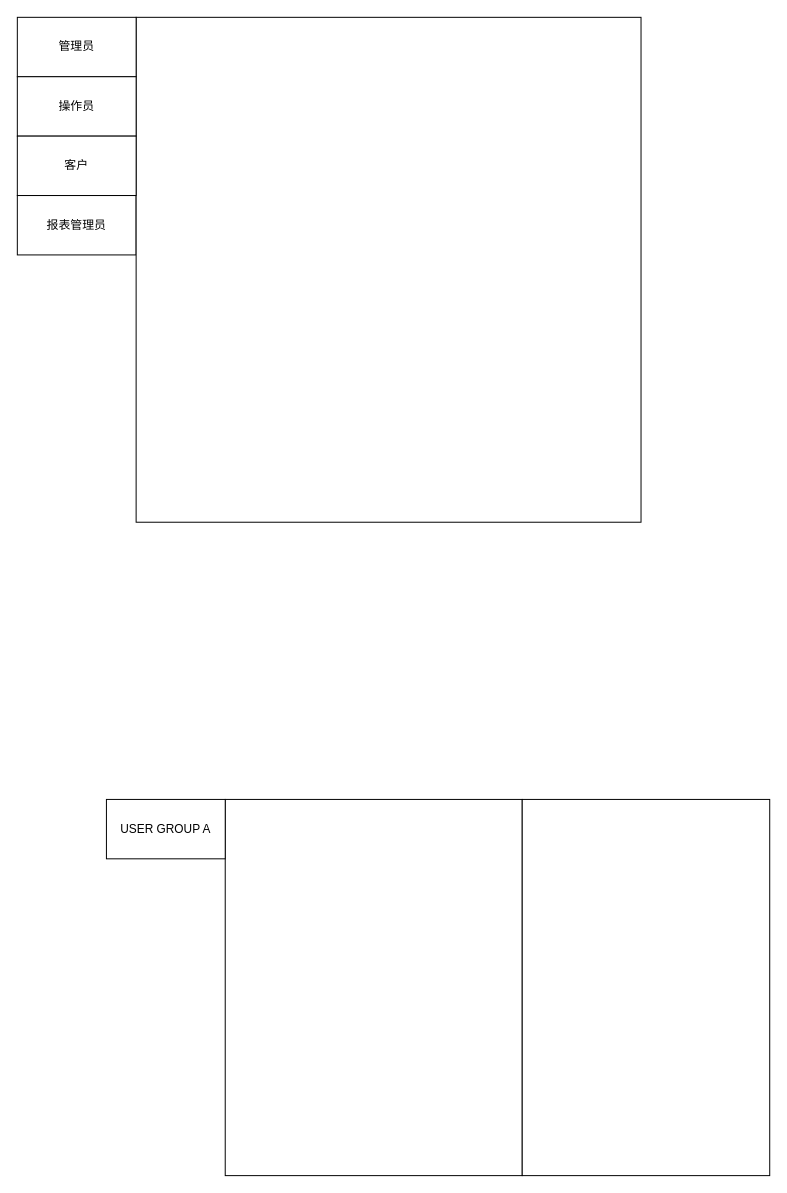
Some shapes in this 787 by 1193 pixel diagram are drawn without their labels. Here are the shapes that lost their labels. From the top down, the centre of each, then its label:
At (373,987): "SE1 SZ SMG SE 2 SZ 2 SMG 2".
At (645,987): "管理设备资源 仅查看清洗对象".
